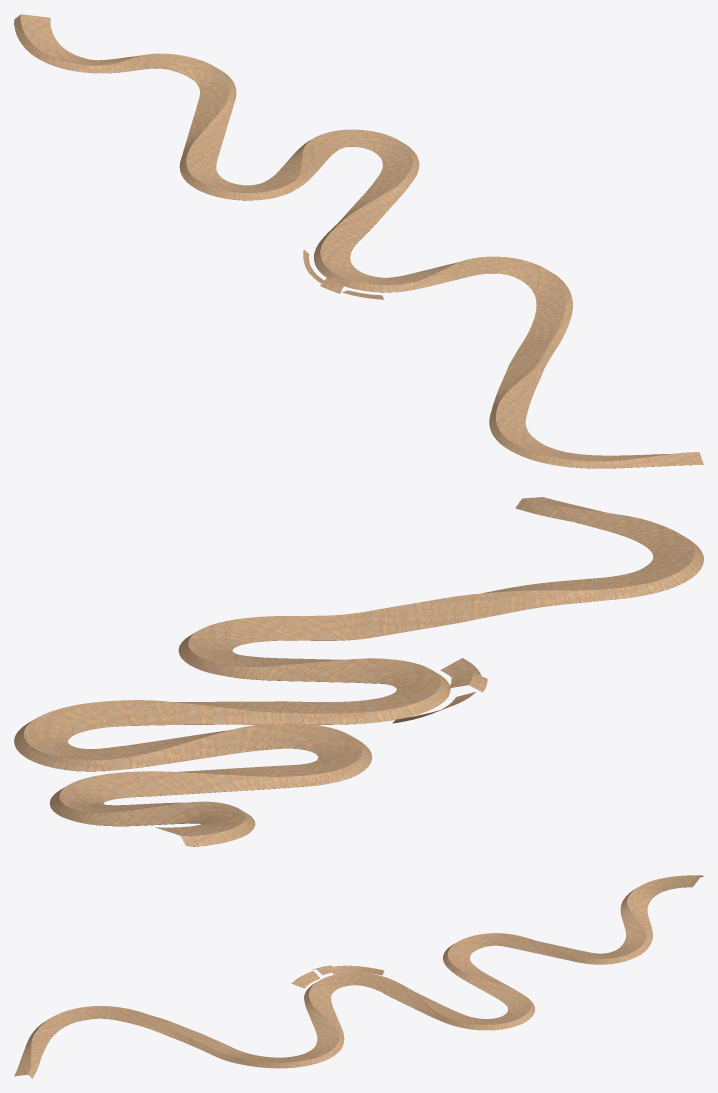
3 renders of one model, top to bottom at view 1: azimuth 30°, elevation 25°; view 2: azimuth 150°, elevation 25°; view 3: azimuth 270°, elevation 25°, orthographic. The views are drawn at different scales.
Visible parts, largest first — view 1: LXZ81001; view 2: LXZ81001; view 3: LXZ81001.
Boxes of the visible parts, left/top/right/bottom form: LXZ81001: left=14, top=14, right=703, bottom=468; LXZ81001: left=14, top=497, right=703, bottom=846; LXZ81001: left=14, top=875, right=703, bottom=1078.
Bounding box in the file's own units: 126 × 357 × 69.63.
Materials: 1 (1 with a texture image).
